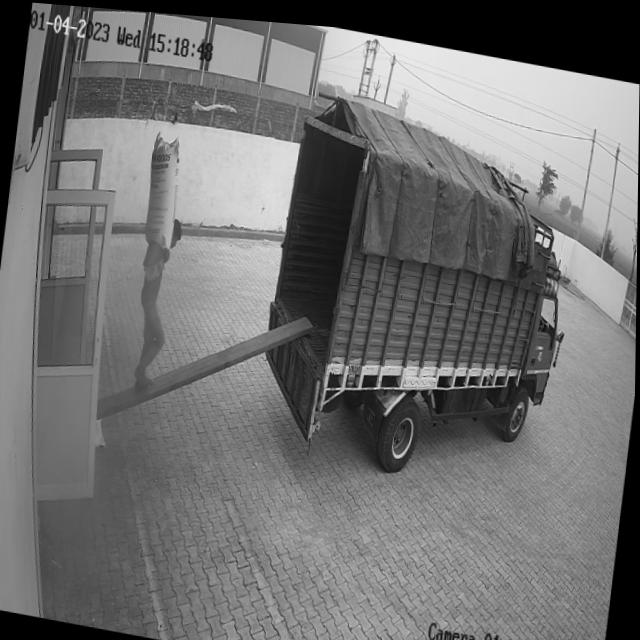sack: (141, 127, 185, 248)
